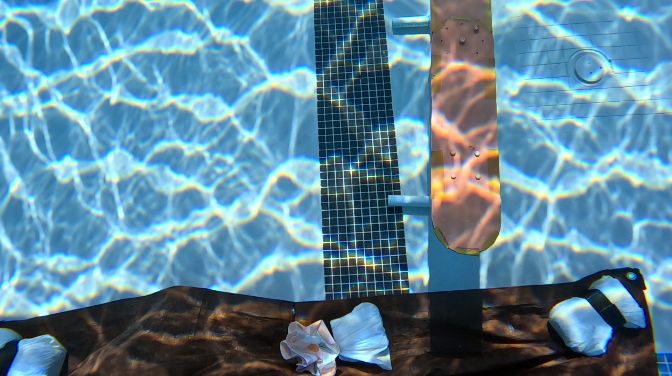pathmarker: (431, 0, 500, 254)
sandbag: (0, 269, 656, 375)
